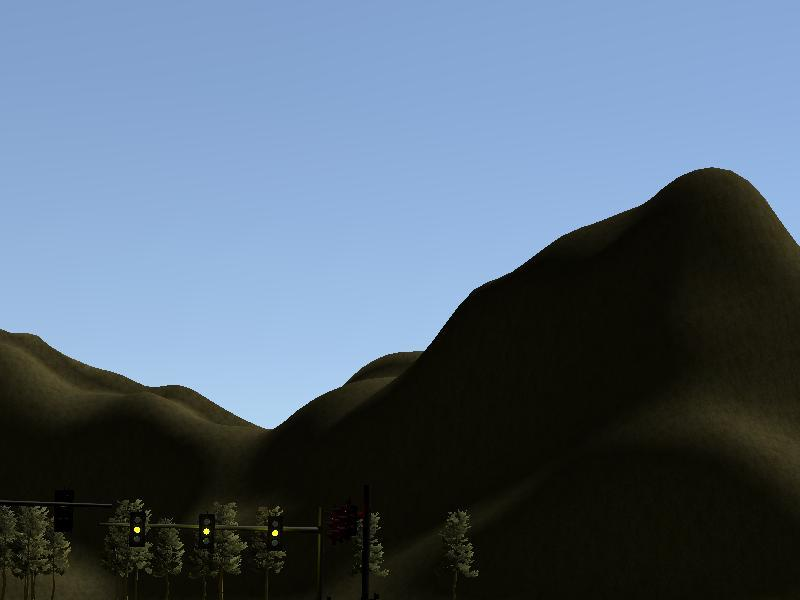Yellow: (129, 510, 145, 546), (199, 514, 215, 549), (268, 515, 284, 550)
